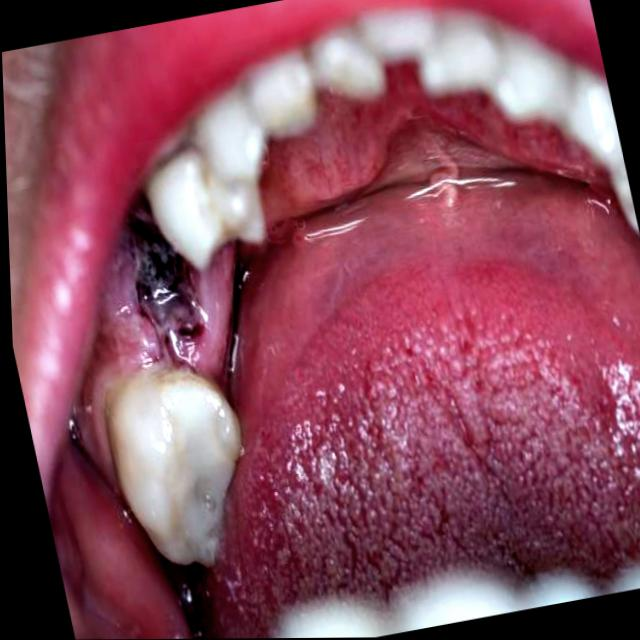cariess: (126, 202, 198, 335)
hypodontia: (83, 50, 315, 564)
